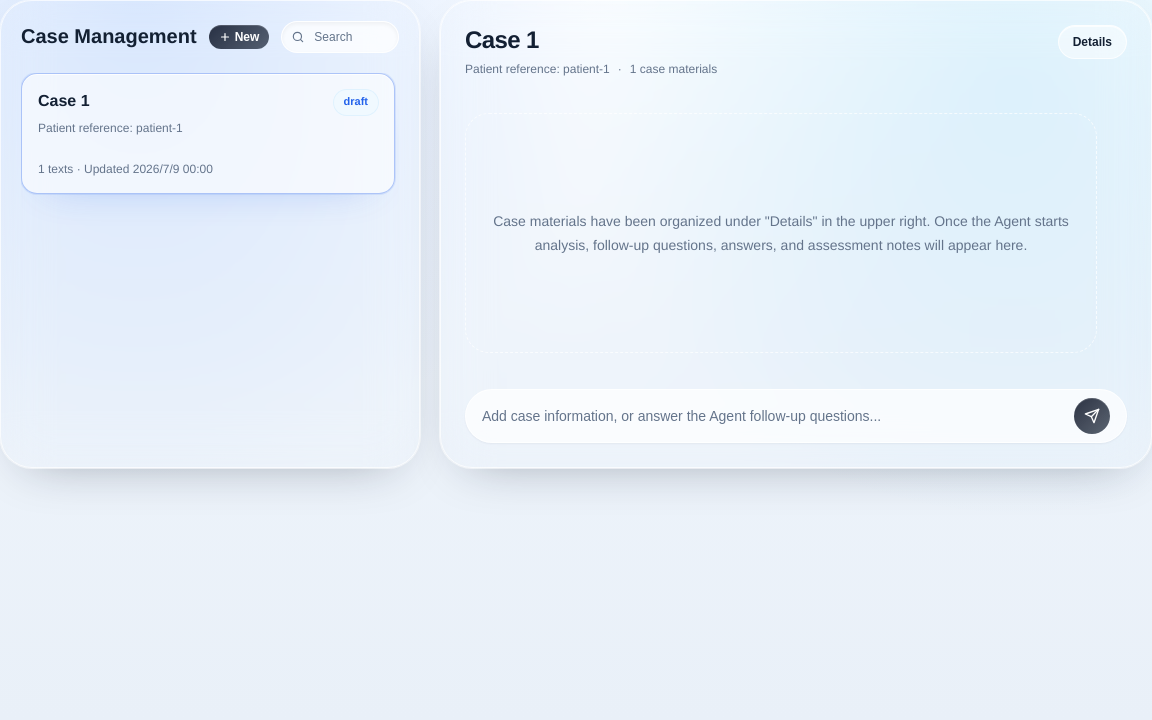
it: Home › keeps case metadata in Details cards outside Clinical Memory
Click the button "Details" at (1092, 42), box [1058,25,1127,59]
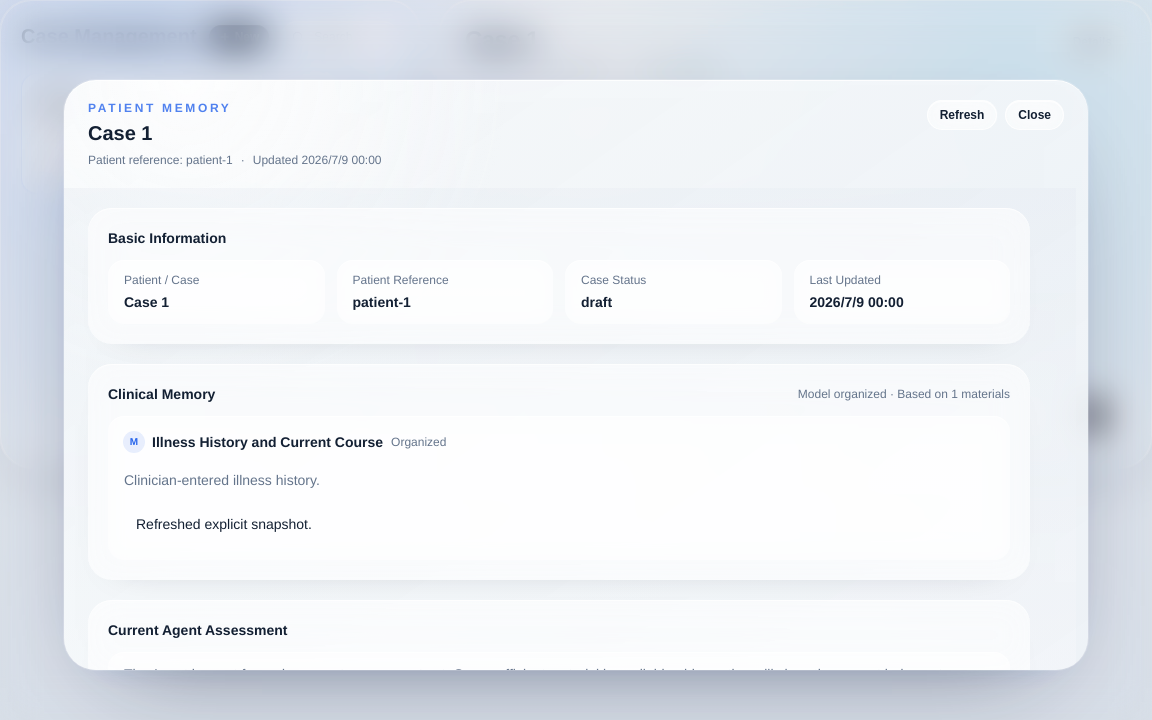
Now the text "Model organized · Based on 1 materials" is shown, box [798,386,1010,402]
Now the text "Patient / Case" is shown, box [124,273,199,287]
Now the text "Patient Reference" is shown, box [352,273,449,287]
